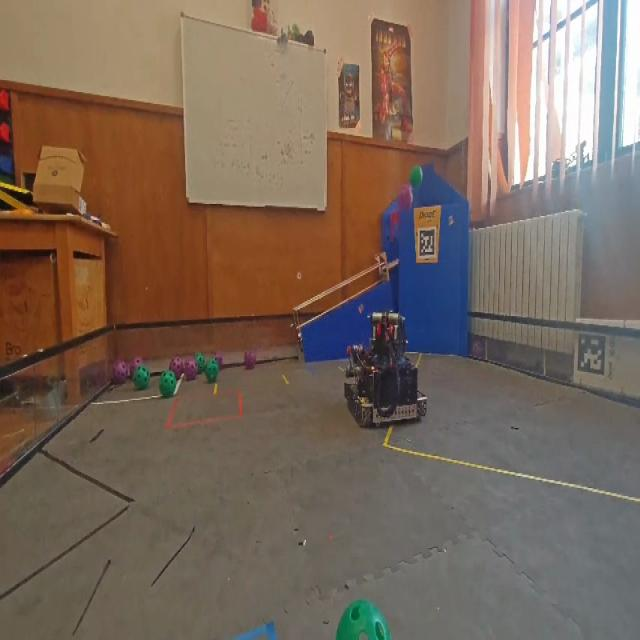artifact_green: (336, 600, 391, 639), (159, 371, 176, 398), (134, 366, 150, 390), (204, 359, 218, 382), (410, 166, 423, 189), (195, 352, 206, 373), (212, 358, 220, 371)
artifact_purple: (113, 360, 128, 385), (398, 184, 412, 210), (184, 358, 198, 381), (170, 356, 183, 379), (130, 356, 143, 377), (246, 352, 256, 369), (215, 352, 223, 369), (126, 363, 132, 378), (252, 352, 257, 366), (244, 352, 249, 366), (244, 352, 248, 362)
